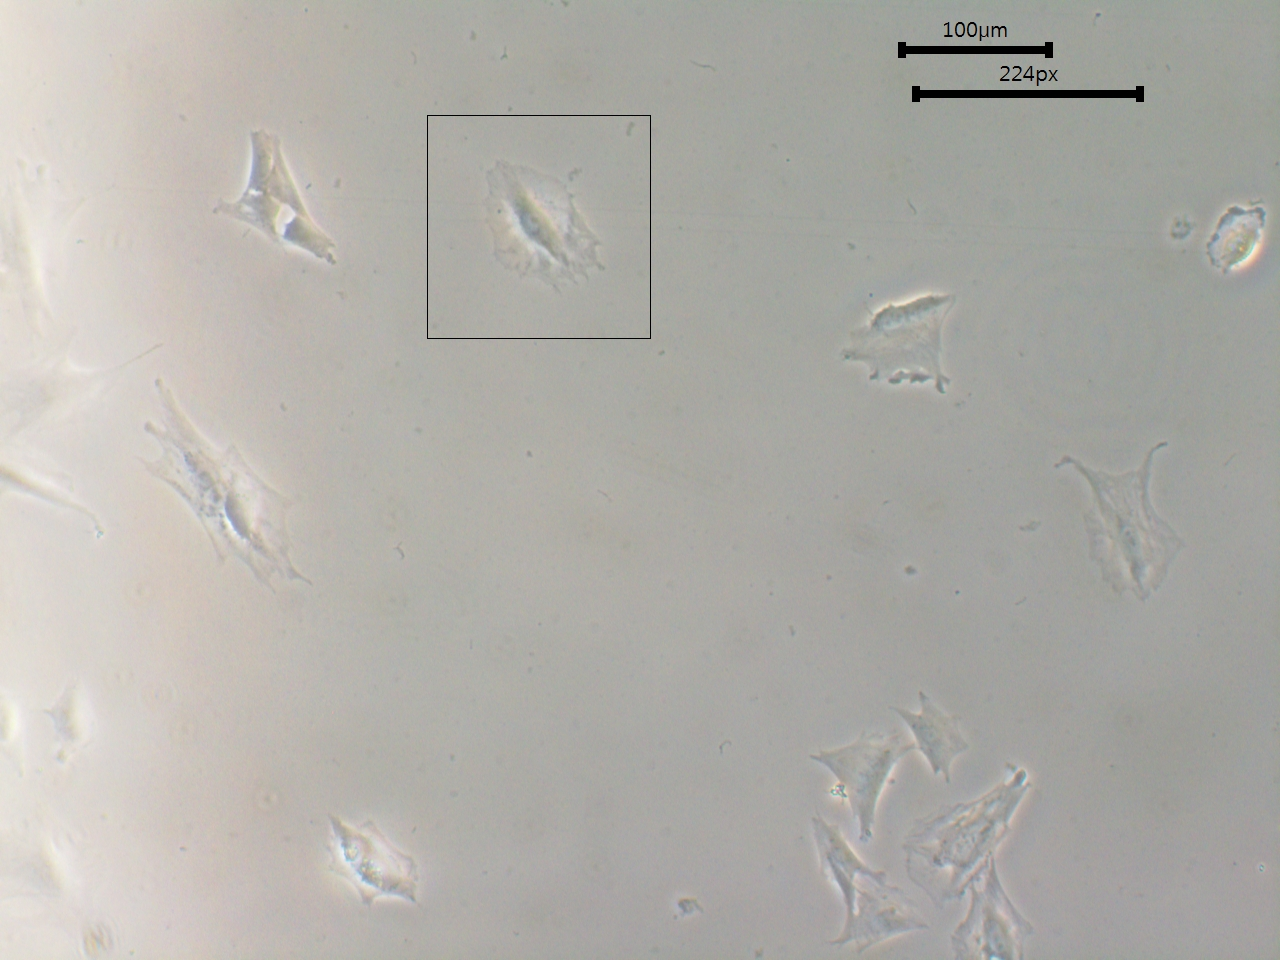medium-spread: (125, 380, 317, 611), (1036, 438, 1193, 636), (834, 287, 971, 411)
small-spread: (312, 801, 440, 934), (902, 692, 978, 783), (1201, 197, 1270, 288)
